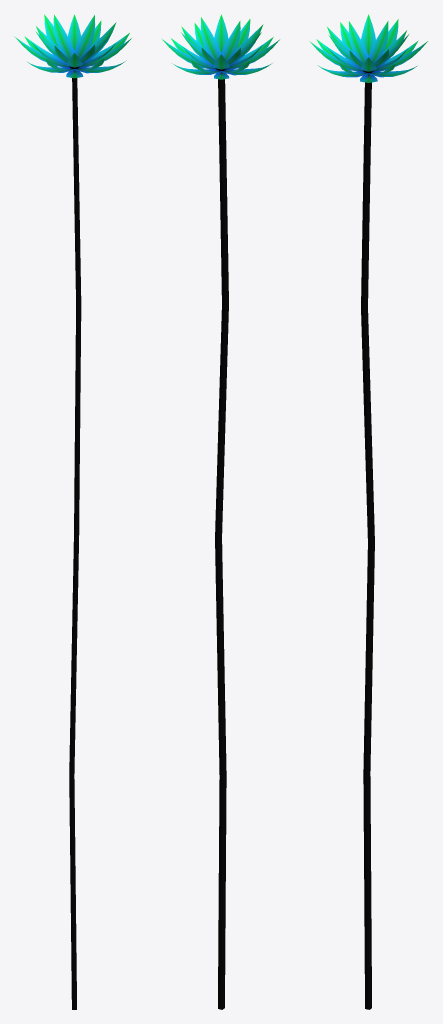
Rendered from WaterLily_Flower_A1_03.fbx.
The picture shows the model from 3 angles, left to right: view 1: azimuth 90°, elevation 25°; view 2: azimuth 150°, elevation 25°; view 3: azimuth 330°, elevation 25°; orthographic projection.
Visible parts, largest first — view 1: WaterLily_Flower_A1_03_LOD0; view 2: WaterLily_Flower_A1_03_LOD0; view 3: WaterLily_Flower_A1_03_LOD0.
Part boxes in pixels (x1,y1,x2,y2): WaterLily_Flower_A1_03_LOD0: [14, 14, 131, 1009]; WaterLily_Flower_A1_03_LOD0: [162, 14, 279, 1009]; WaterLily_Flower_A1_03_LOD0: [309, 14, 427, 1009].
Size of what is drawn, in the model's own units: 0.4612 by 4.17 by 0.4563.
